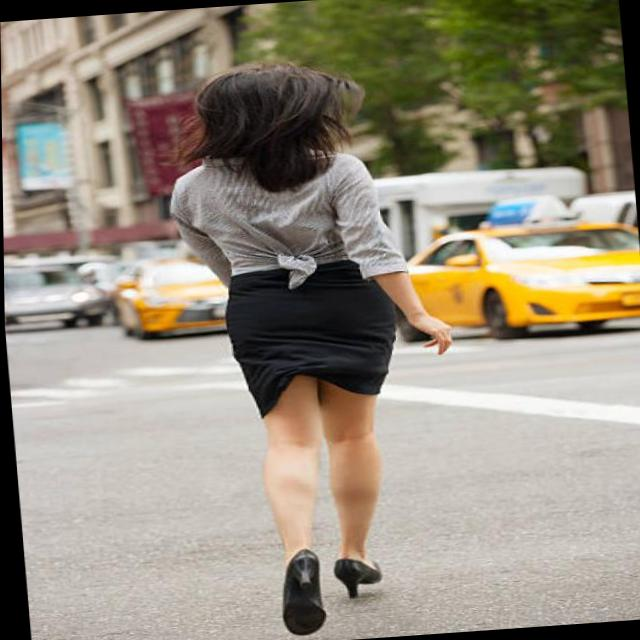no helmet: (189, 53, 367, 170)
